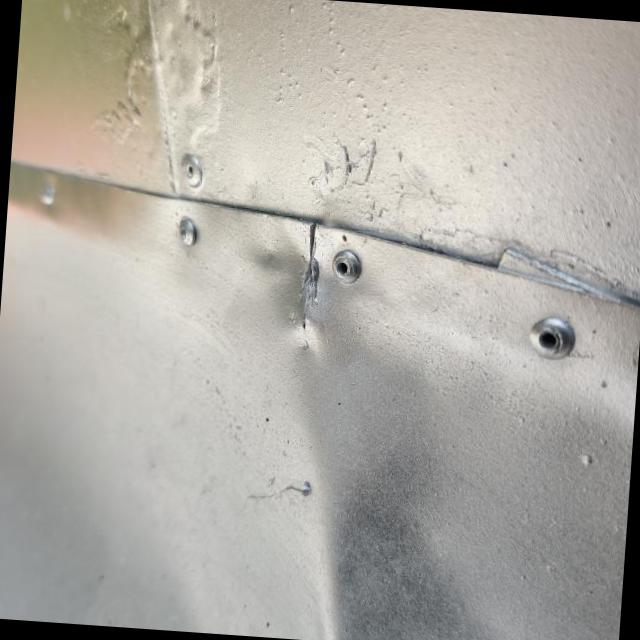Crack: (296, 222, 318, 327)
Dent: (304, 228, 562, 640)
